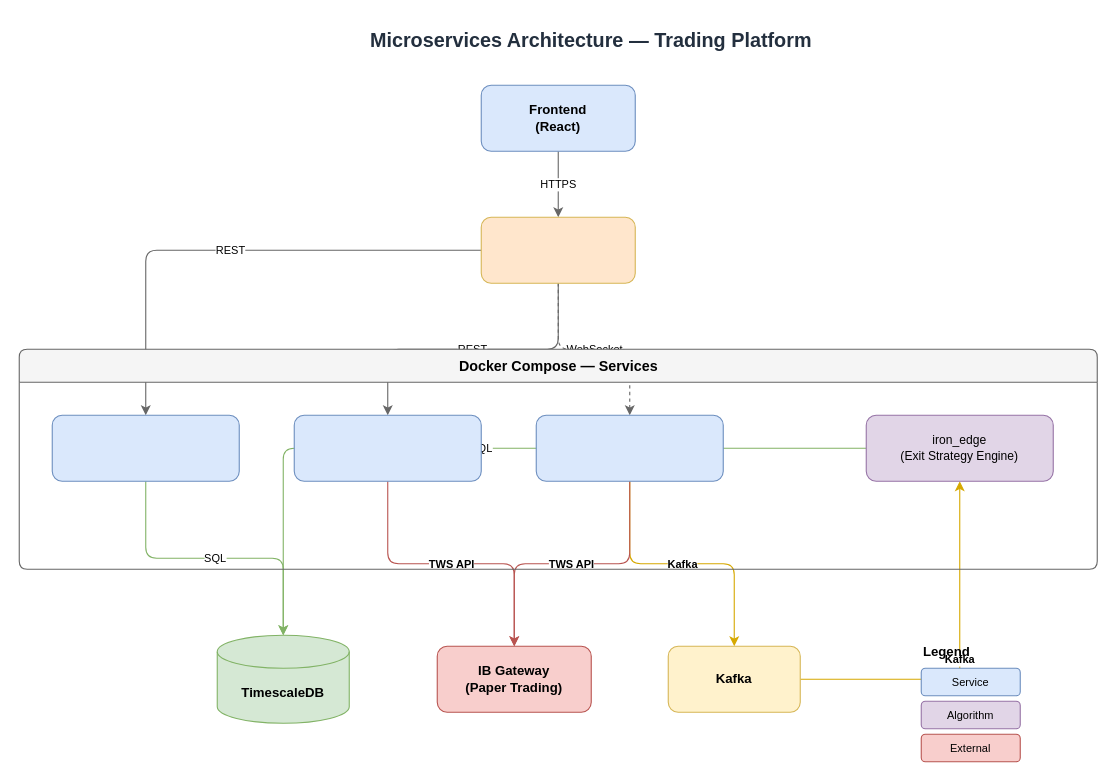
Some shapes in this 1117 by 781 pixel diagram are drawn without their labels. Each missing label, with the centre of its shape:
API Gateway / Reverse Proxy: the point at 557,249
ib-buy-sell (Order Execution): the point at 387,447
ib-history-data (REST API): the point at 145,447
ib-realtime-data (WebSocket → Kafka): the point at 629,447
